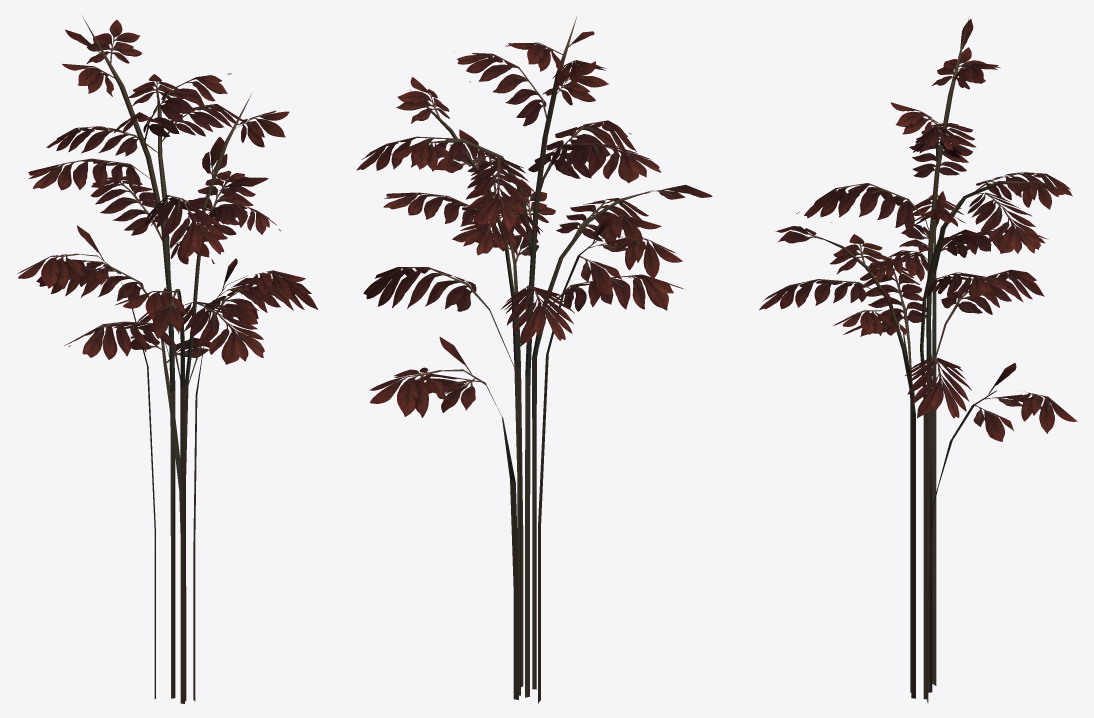
3 renders of one model, left to right at view 1: azimuth 30°, elevation 25°; view 2: azimuth 150°, elevation 25°; view 3: azimuth 270°, elevation 25°, orthographic. The views are drawn at different scales.
Bounding box in the file's own units: 7.93 × 17.13 × 7.88.
1 material, 1 textured.
